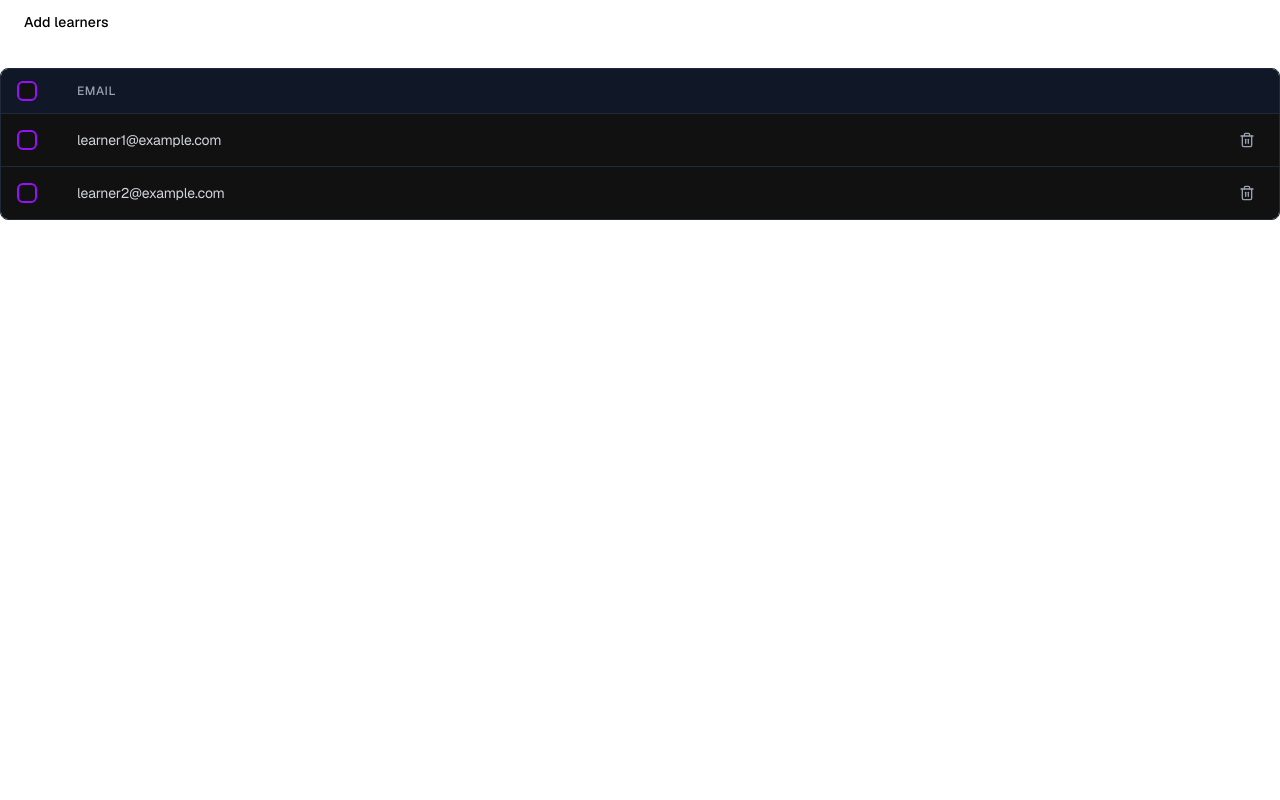
it: CohortMemberManagement Component › Email Input Management › allows adding multiple email inputs in the invite dialog
Click the button "Add learners" at (66, 22), box [0, 0, 133, 44]
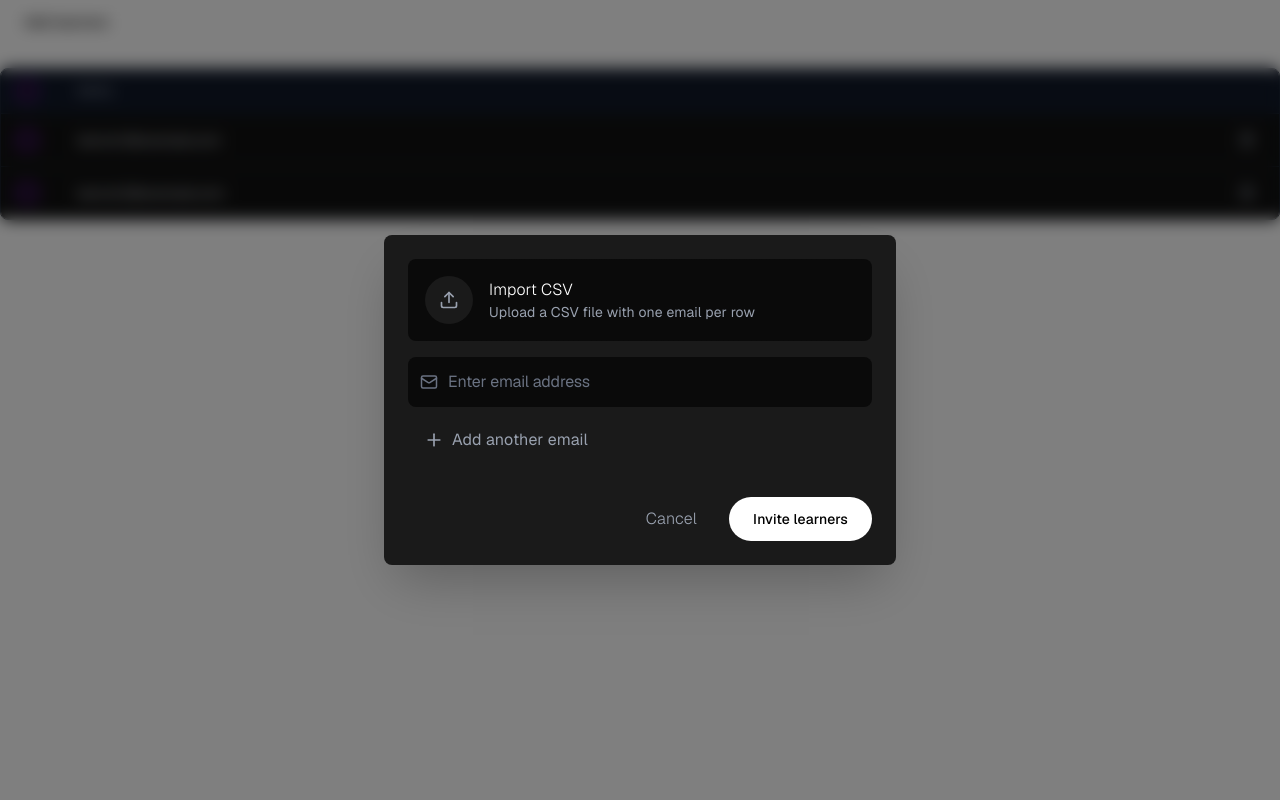
Click the button "Add another email" at (520, 440), box [408, 415, 872, 465]
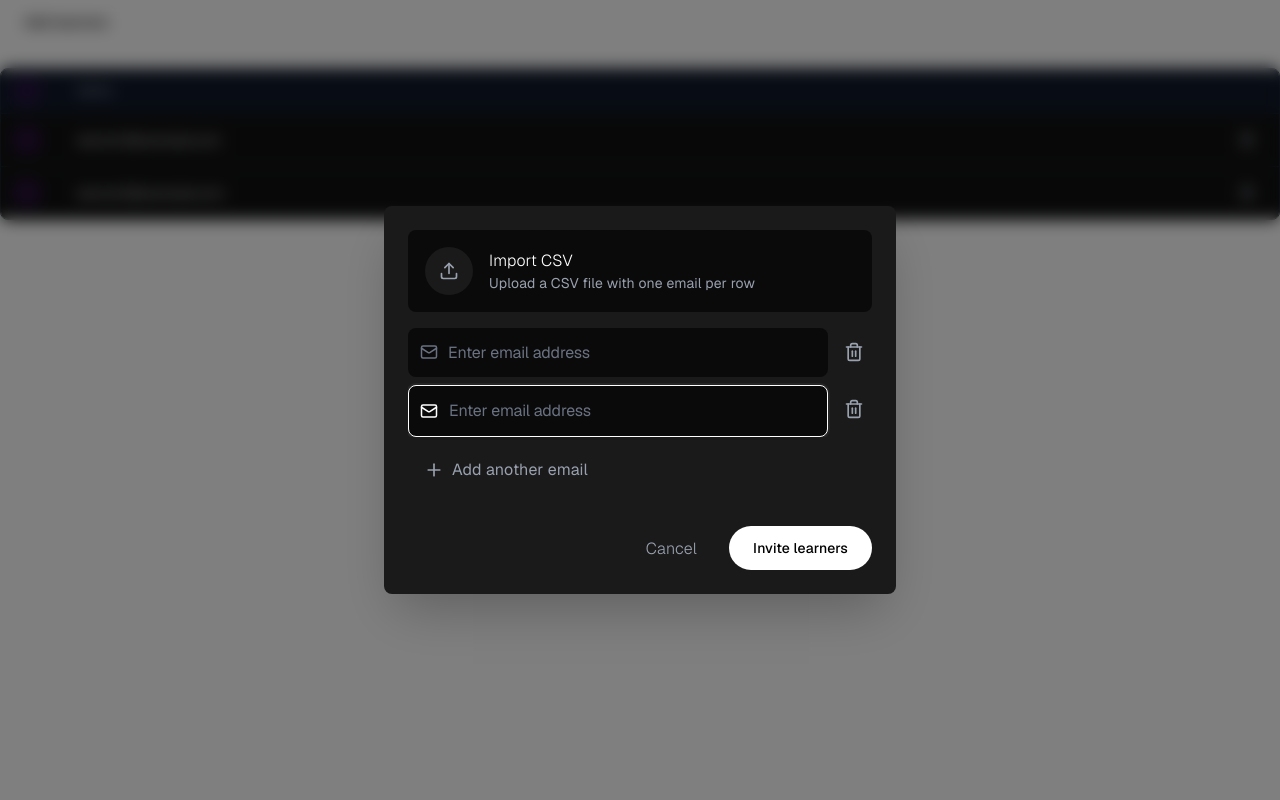
Expected: the number of fields with placeholder "Enter email address" is 2, [408, 328, 828, 377]; [408, 385, 828, 437]
